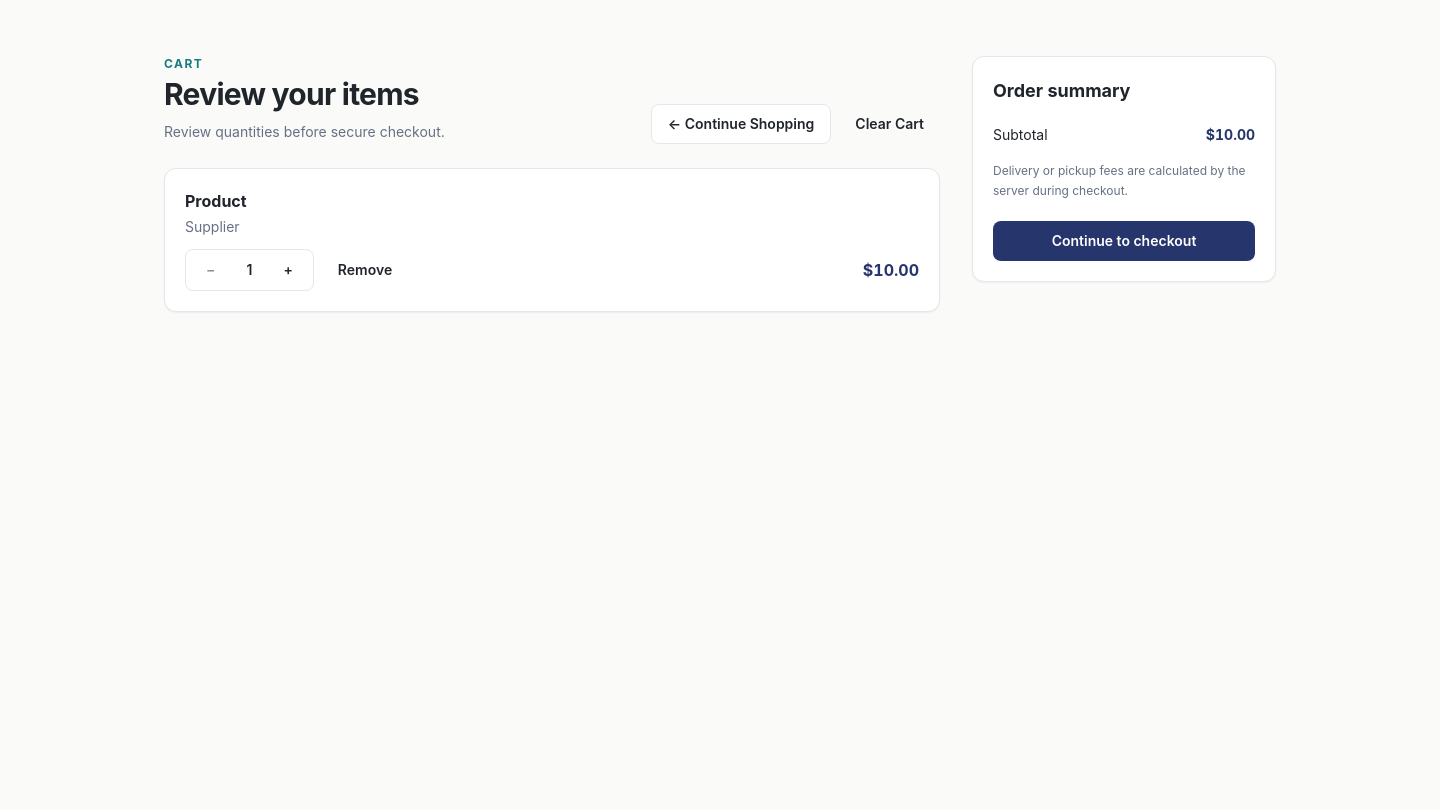
CartPage interactions › confirms clear, disables the mutation, and retains items with an error when it fails
Click the button "Clear Cart" at (890, 124), box [839,104,940,144]
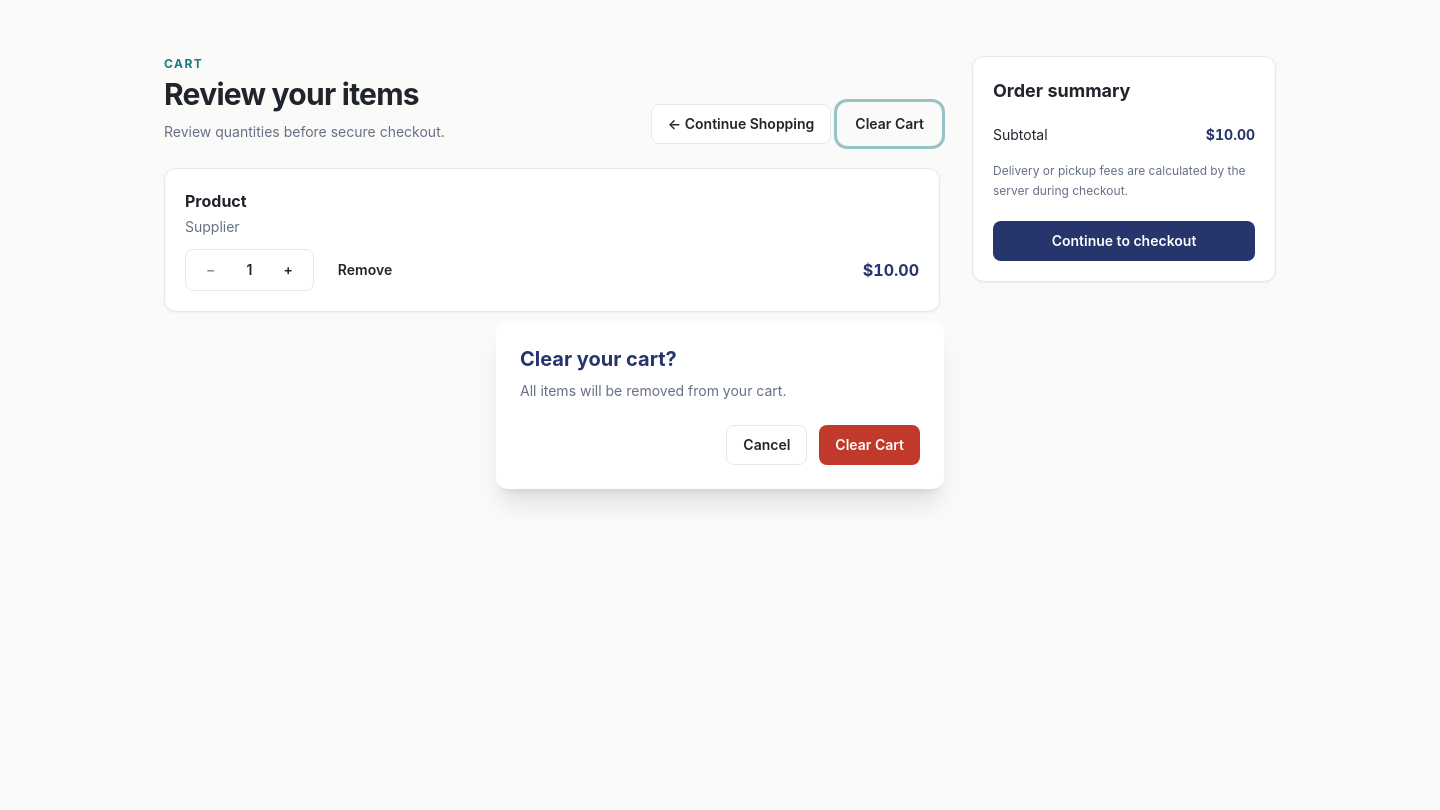
Expected: the dialog is shown, [496,321,944,489]
Click the button "Cancel" at (767, 445), box [726,425,807,465]
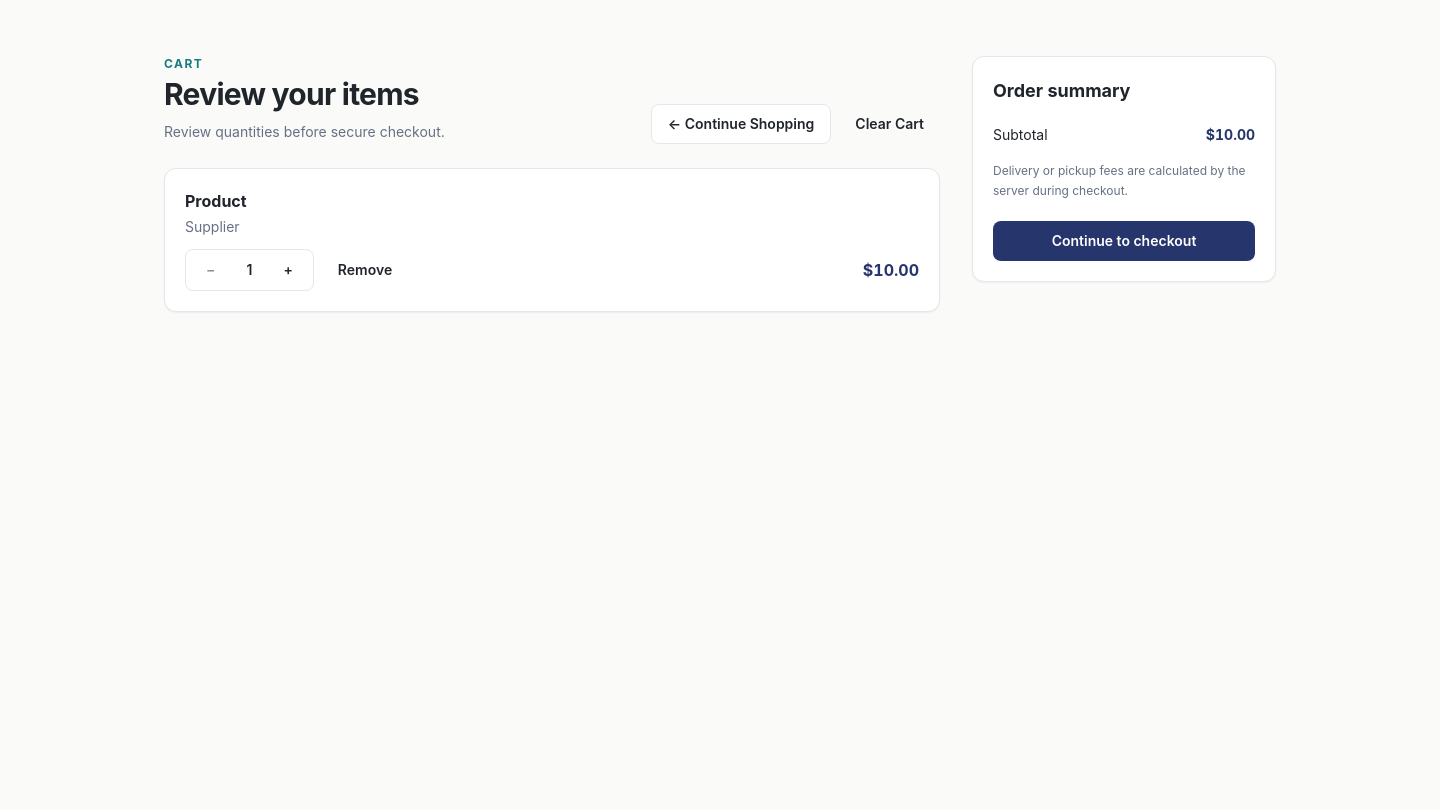
Click the button "Clear Cart" at (890, 124), box [839,104,940,144]
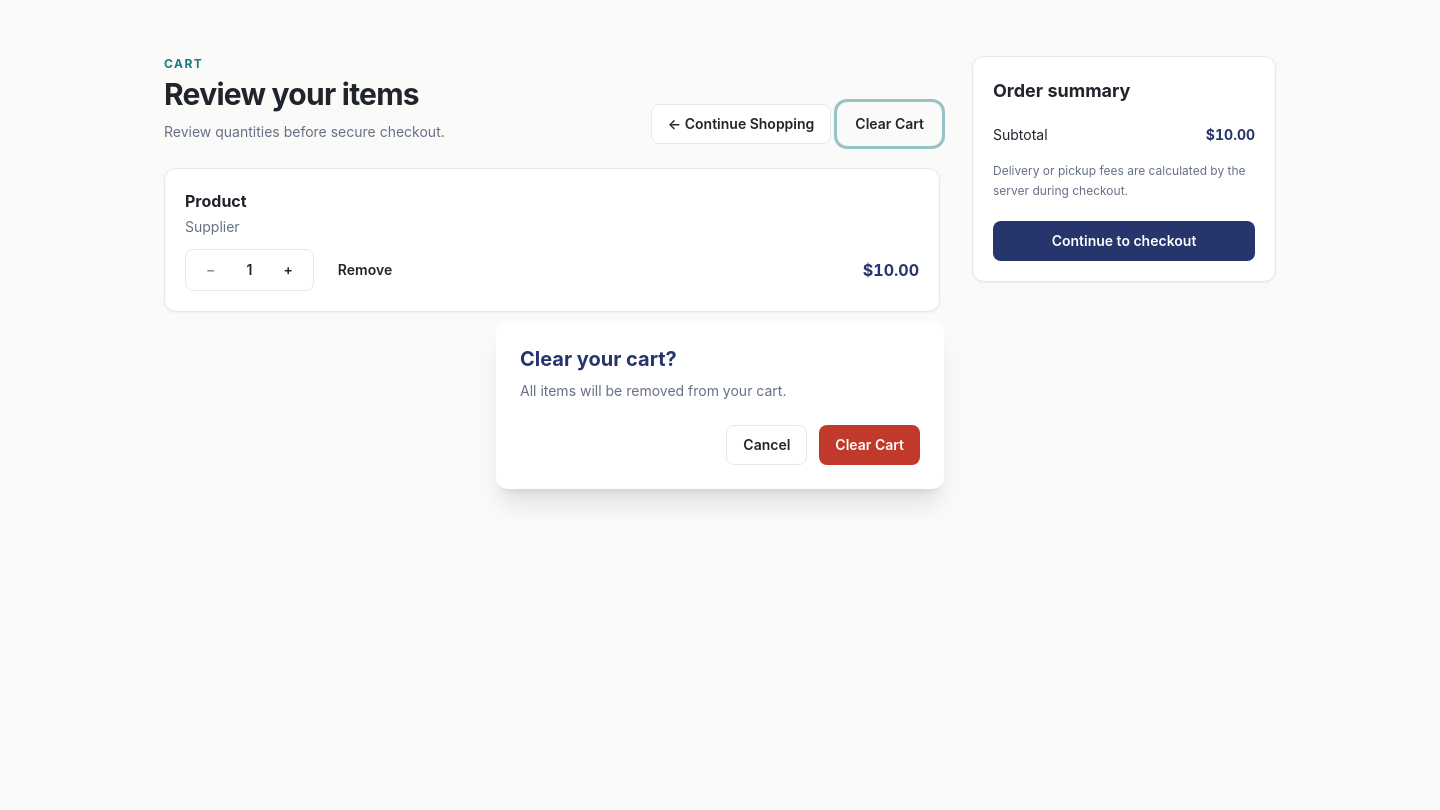
Click the button "Clear Cart" at (870, 445), box [819,425,920,465]
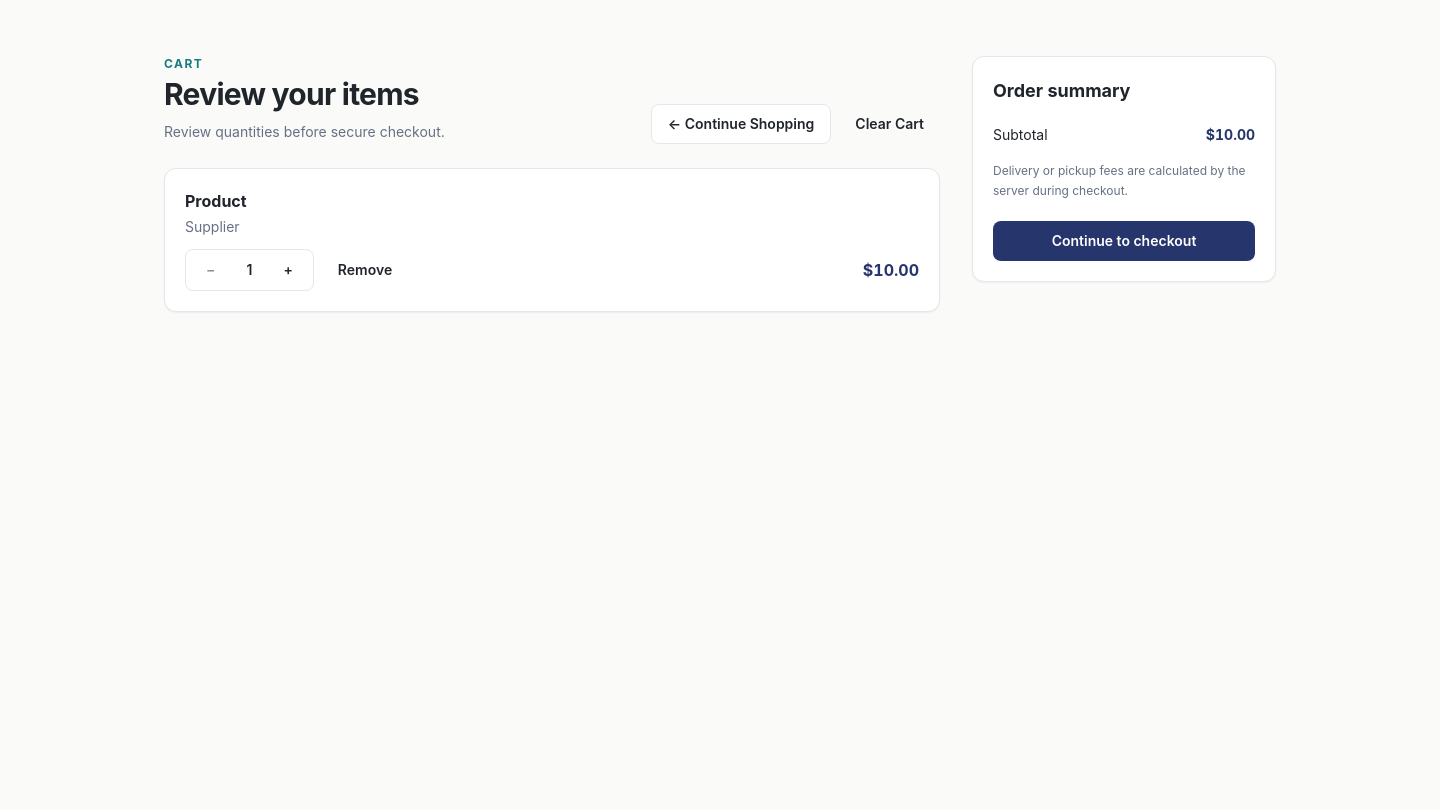
Expected: the dialog is gone
Click the button "Clear Cart" at (890, 124), box [839,104,940,144]
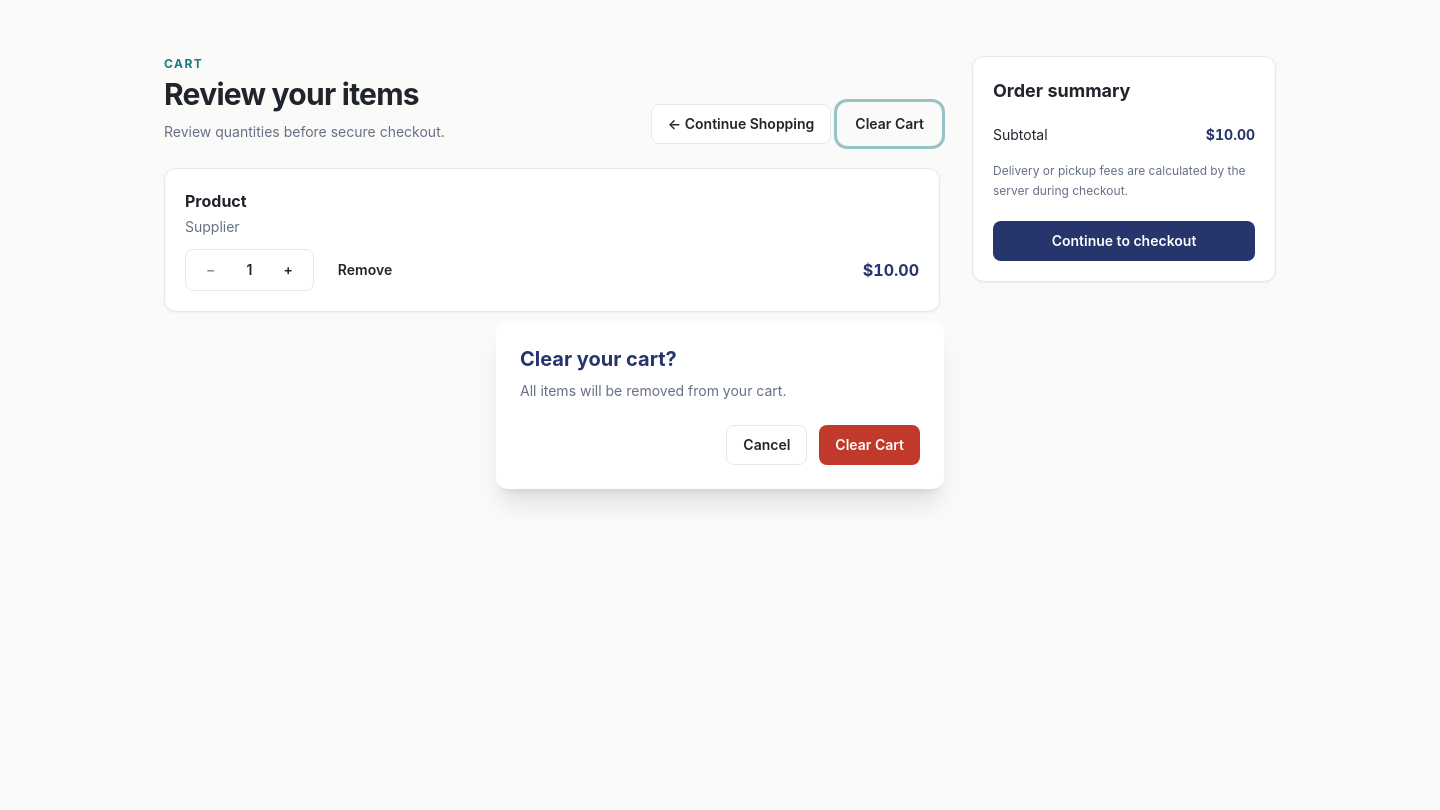
Click the button "Clear Cart" at (870, 445), box [819,425,920,465]
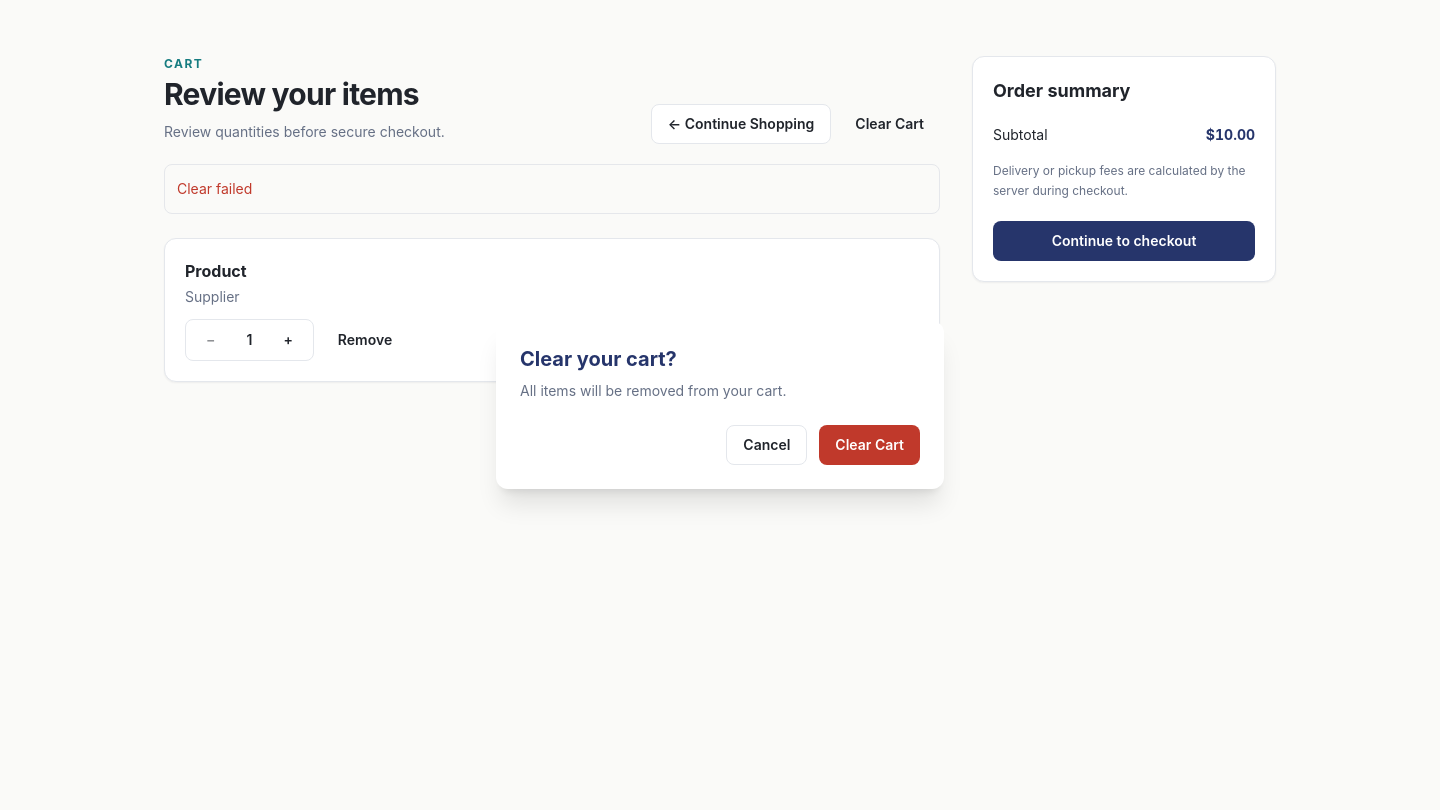
Expected: the text "Product" is shown, [185,261,247,281]
Expected: the message "Clear failed" is shown, [164,164,940,214]
